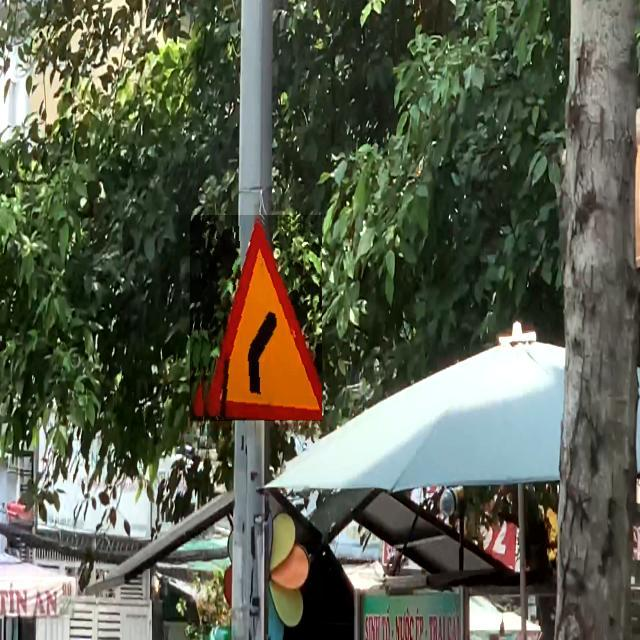W-201b: (190, 216, 322, 422)
